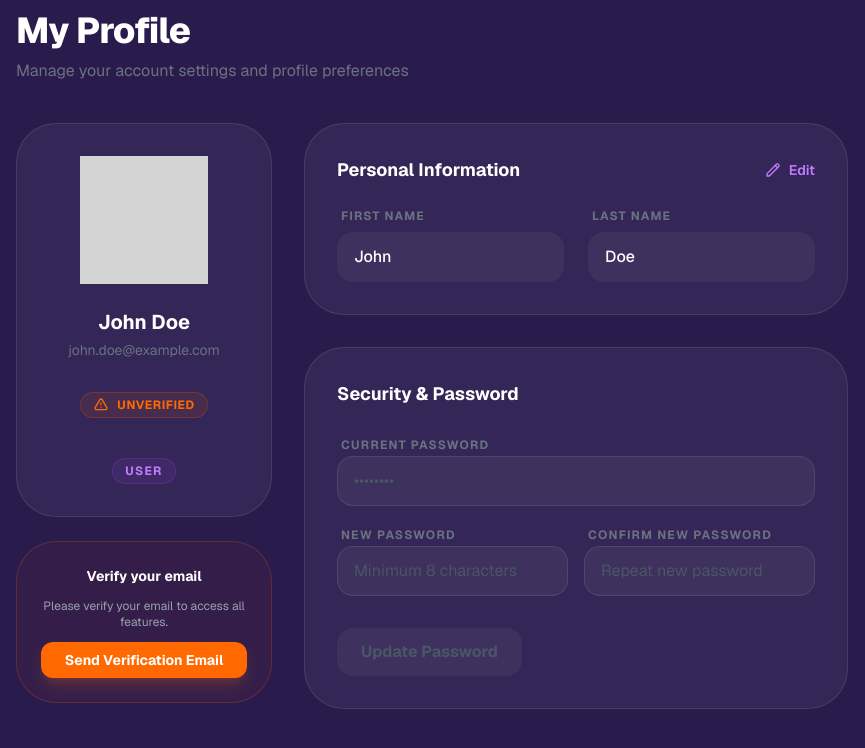
it: MyProfilePage › handles send verification email
Click the button "Send Verification Email".
click(144, 660)  # box [41,642,247,678]
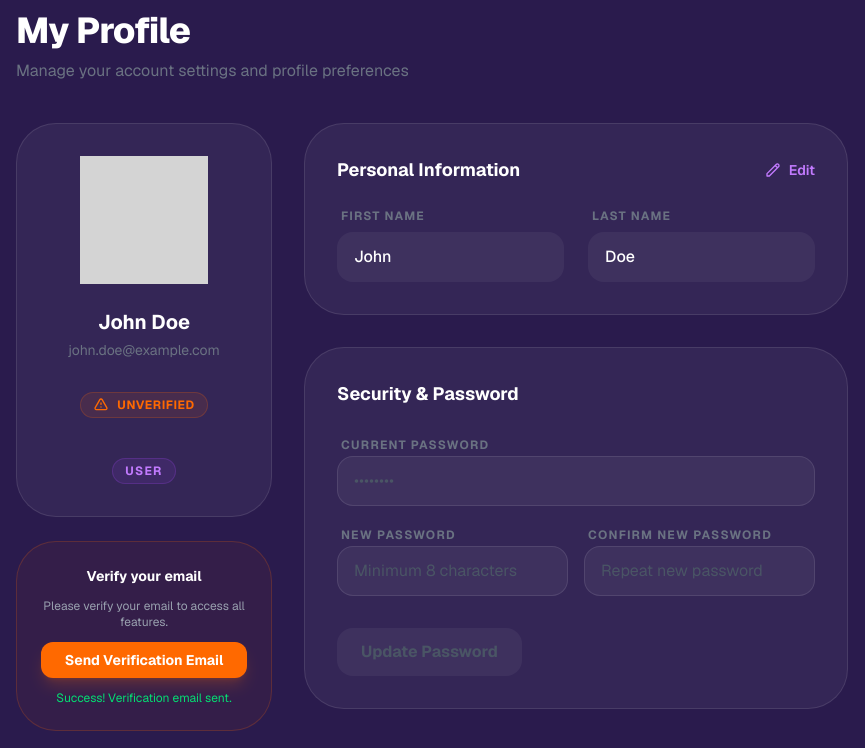
Now the text "Success! Verification email sent." is shown, box [41,690,247,706]
